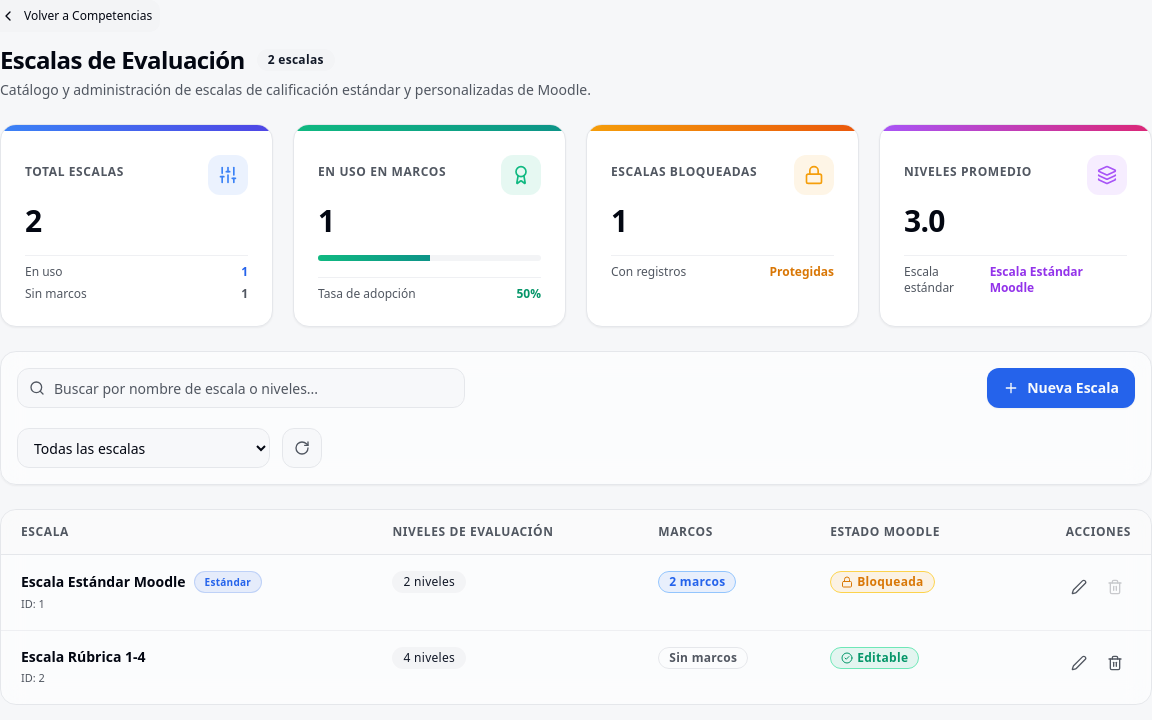
it: ScalesView › opens delete confirmation modal when clicking delete button
Click the button named "Eliminar escala Escala Rúbrica 1-4": (1115, 663) [1099,647,1131,679]
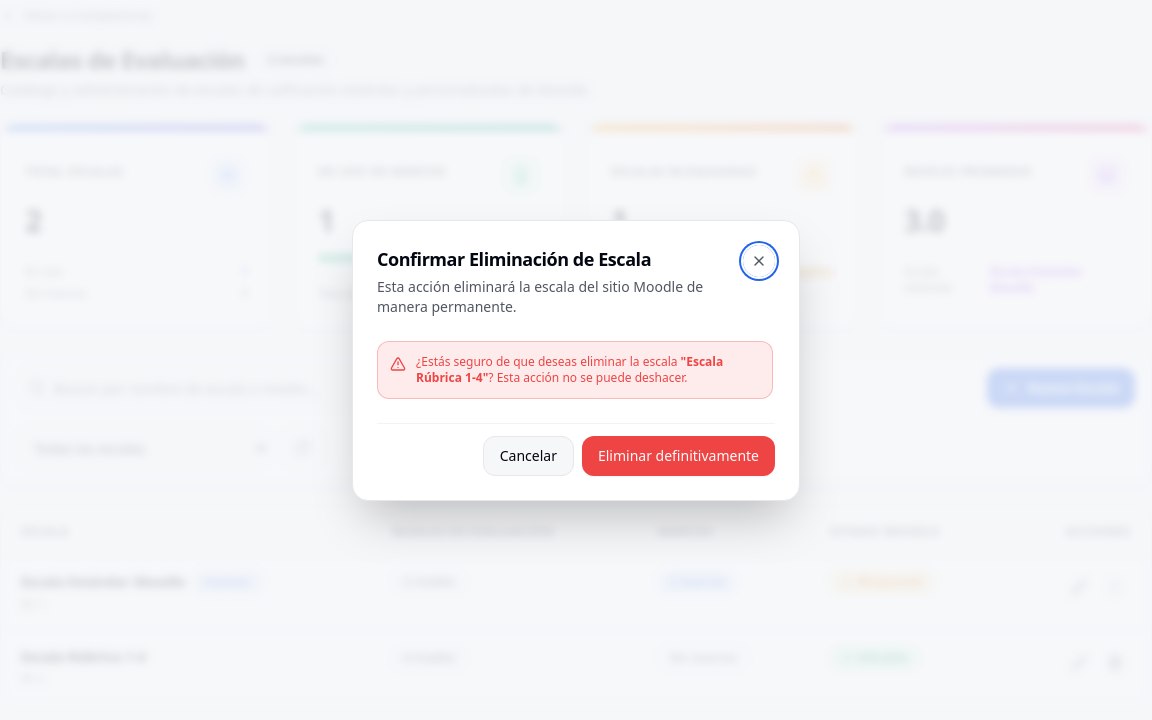
Result: the heading "Confirmar Eliminación de Escala" is shown at [377,246,651,270]
Result: the button "Eliminar definitivamente" is shown at [582,436,775,476]
